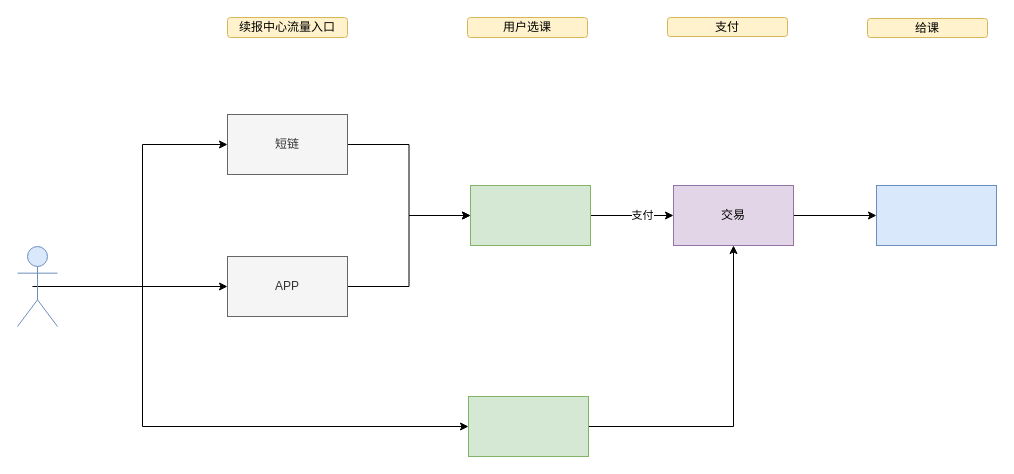
The diagram is 1014 pixels wide and 474 high, and some of its shapes have lost their labels. The shapes that lost their labels are listed below. From the top down, each one's centre as x and y in pixels, then its label:
At (530,215): "续报中心".
At (936,215): "供应链".
At (528,426): "选课单".
